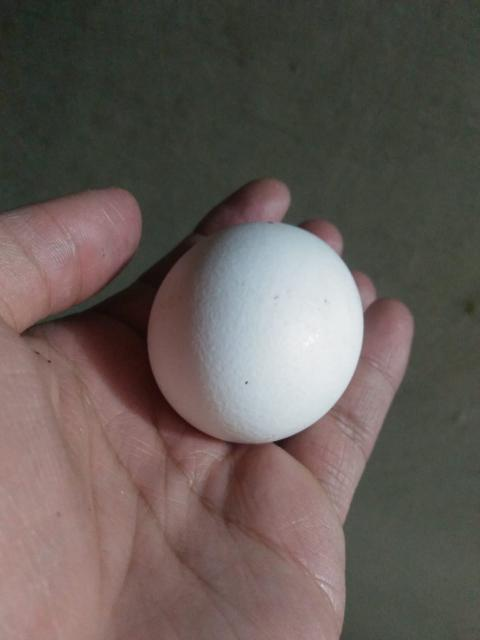Sano: (151, 223, 364, 443)
